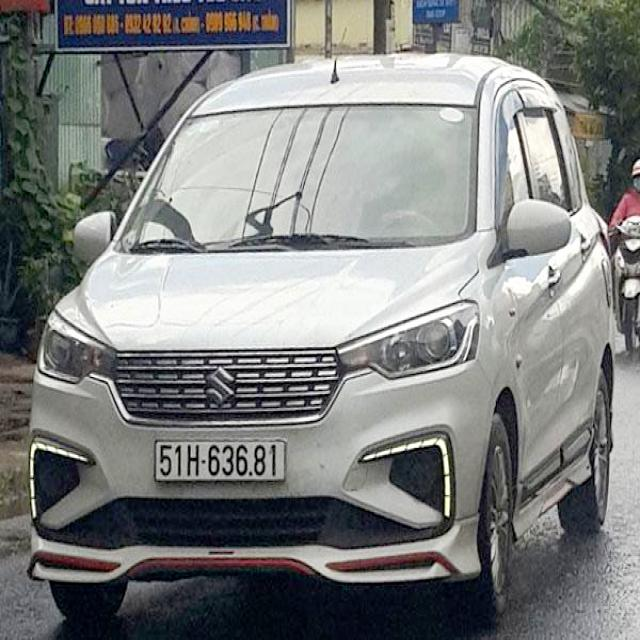license_plate: (156, 440, 288, 482)
